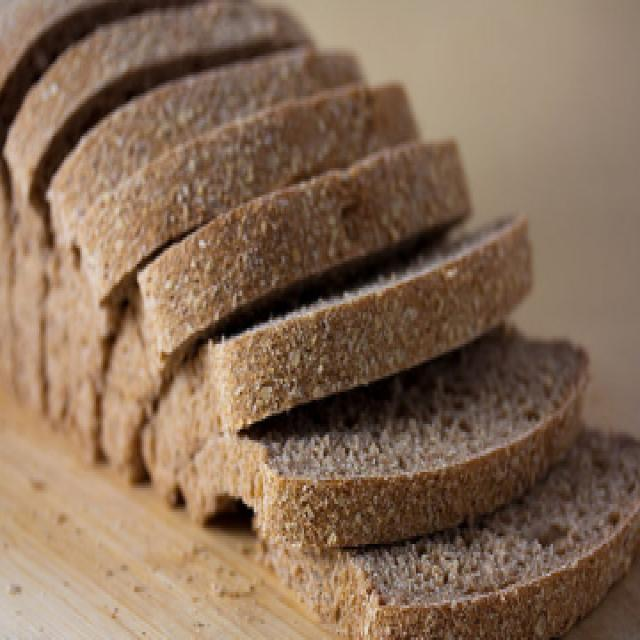Bread: (144, 220, 530, 494), (179, 326, 588, 547), (262, 431, 640, 639)
